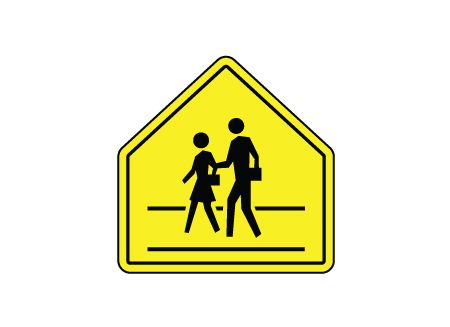CrossSign: (115, 55, 339, 277)
